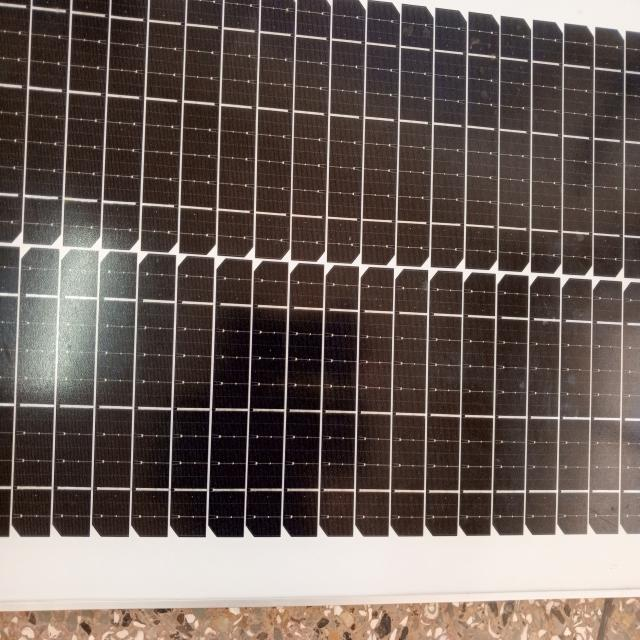Clean: (124, 3, 640, 566)
